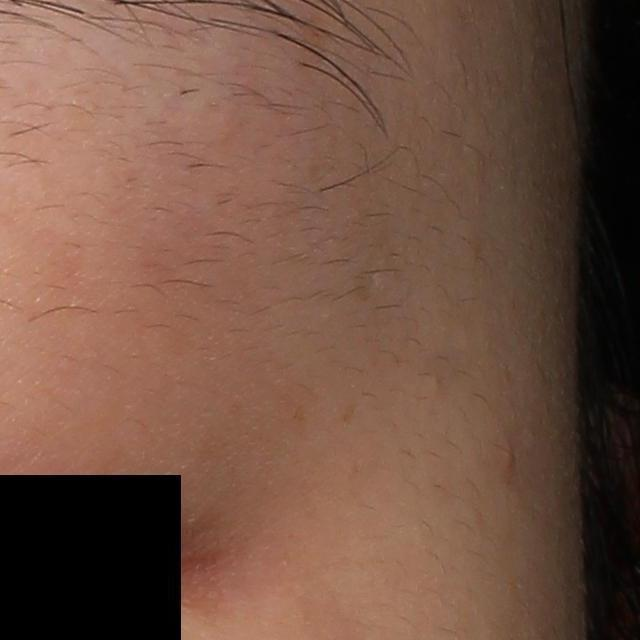melasma: (341, 402, 354, 423)
papule: (504, 434, 517, 478)
